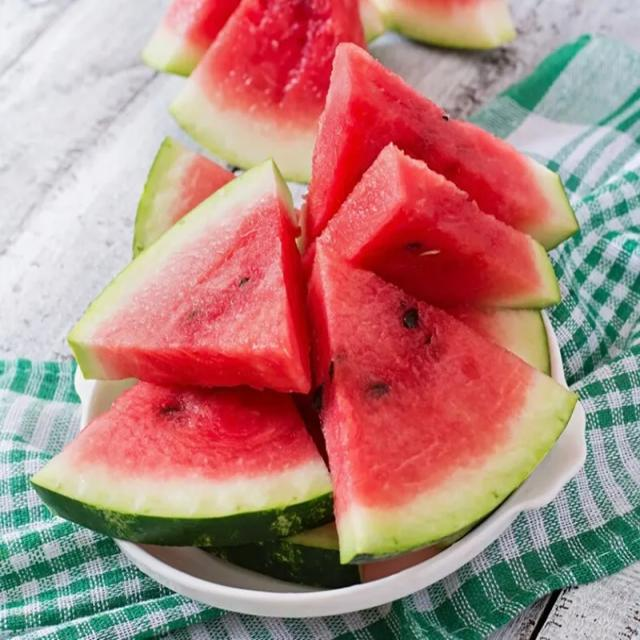dua hau: (304, 241, 575, 562), (309, 47, 581, 251), (70, 162, 309, 391), (30, 382, 334, 547), (317, 144, 563, 311)
